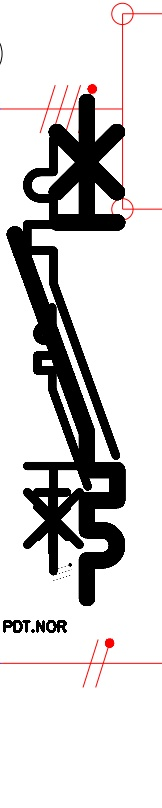interruptor_termomagnetico: (2, 89, 130, 611), (16, 128, 127, 582), (31, 301, 94, 558)
